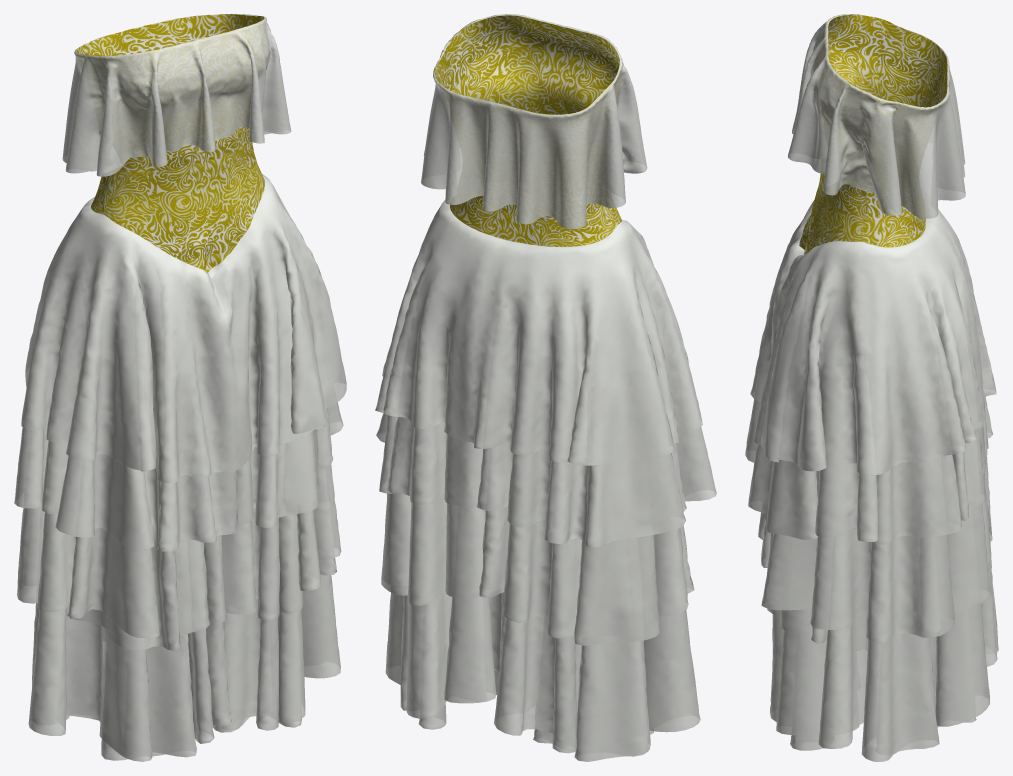
3 views of the same model, side by side, from view 1: azimuth 30°, elevation 25°; view 2: azimuth 150°, elevation 25°; view 3: azimuth 270°, elevation 25° (orthographic). The views are drawn at different scales.
Parts seen in each view (by area): view 1: aa; view 2: aa; view 3: aa.
Part boxes in pixels (x1,y1,x2,y2): aa: (14,14,346,761); aa: (375,14,716,761); aa: (745,14,998,761).
Bounding box in the file's own units: 556 × 1168 × 399.
